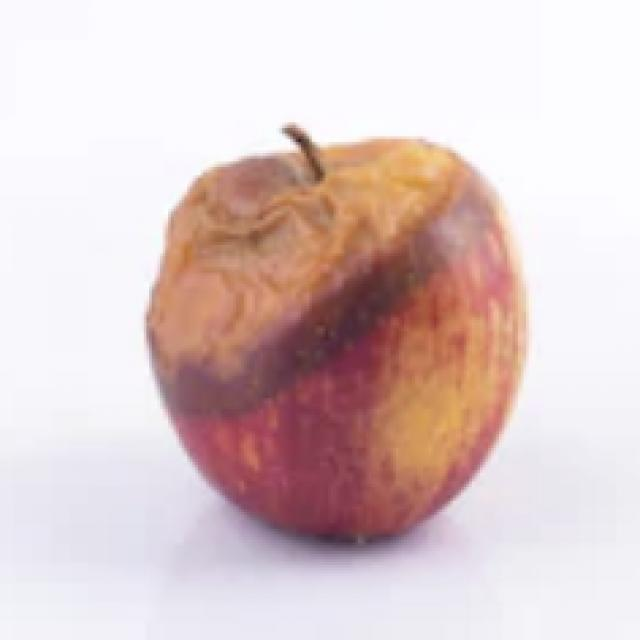Rotten: (140, 140, 528, 565)
